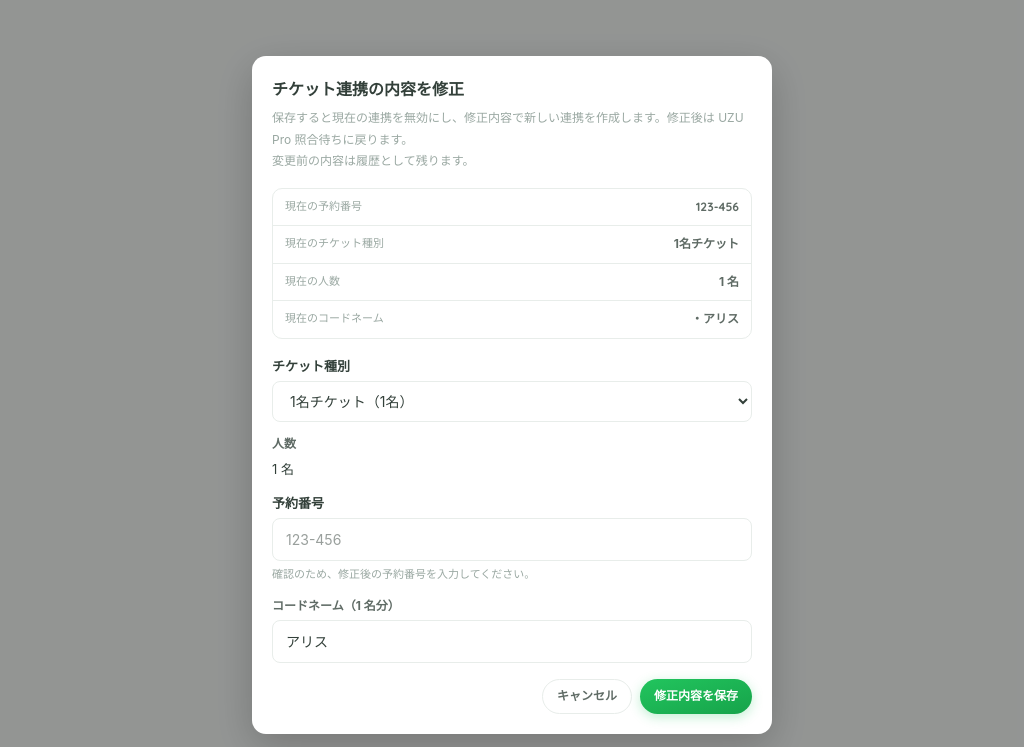
Test: チケット種別の変更 › 人数が変わったらコードネームを全クリアし、新しい人数分を表示する
Select "4名グループ（4名）" in the dropdown labelled "チケット種別" at (512, 401), box [272,381,752,422]
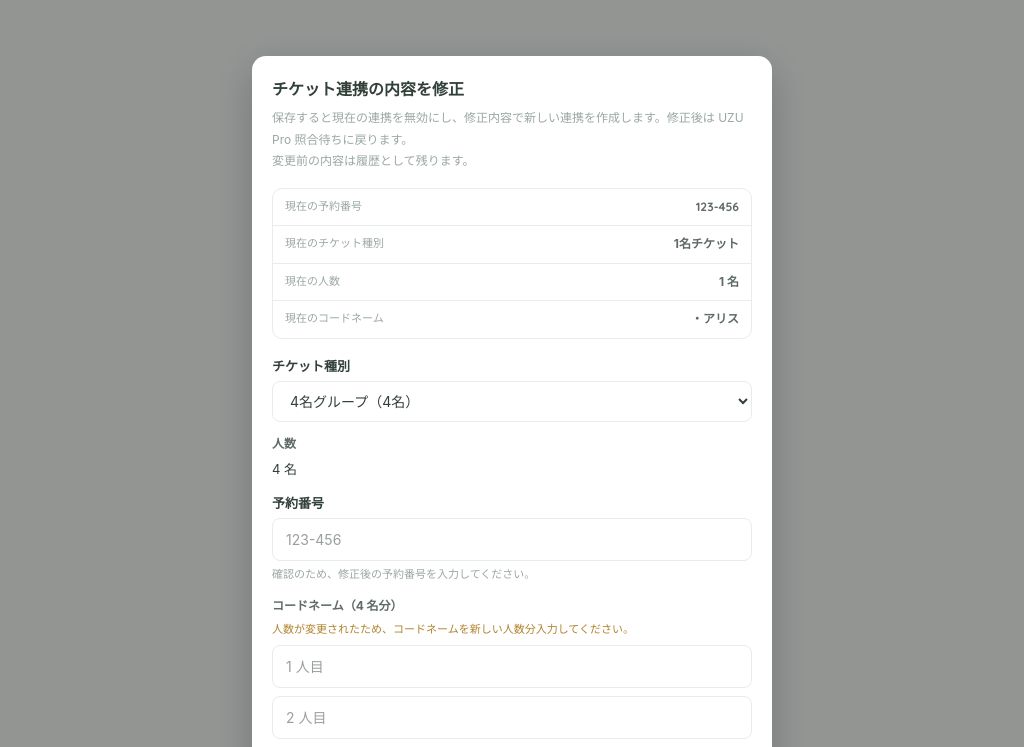
expect the number of fields with placeholder "1 人目" is 4: met
expect the text "人数が変更されたため、コードネームを新しい人数分入力してください。" is shown: met, box [272,622,634,636]
